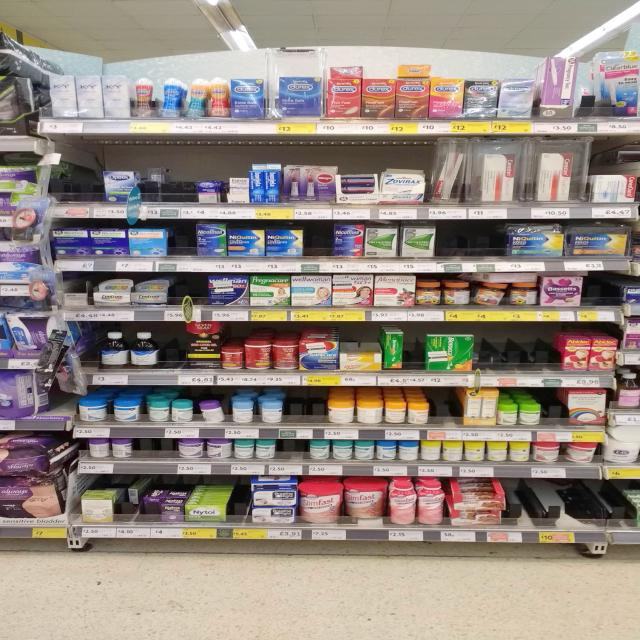empty_space: (487, 333, 551, 371), (581, 484, 627, 532), (450, 227, 503, 257), (293, 390, 319, 418), (436, 385, 454, 423), (543, 394, 566, 422), (310, 224, 331, 252), (599, 274, 617, 306)
